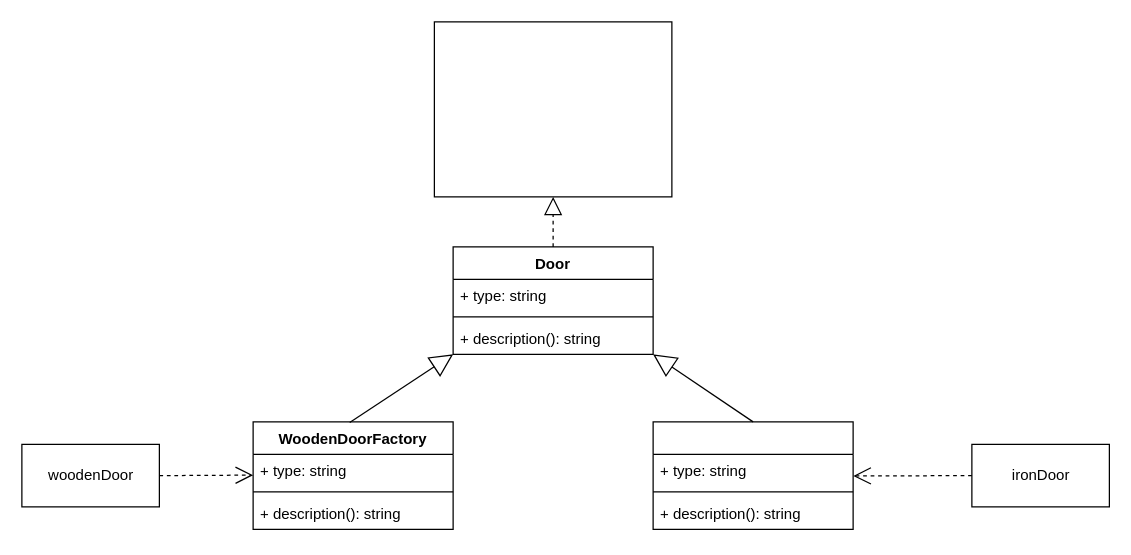
This 1131x555 diagram has some shape labels left out. Here are the shapes that lost their labels. From the top down, the box of each, then its label:
(433, 21, 672, 197): <<Interface>> IDoor + type: string + description(): string
(652, 421, 853, 529): IronDoorFactory
